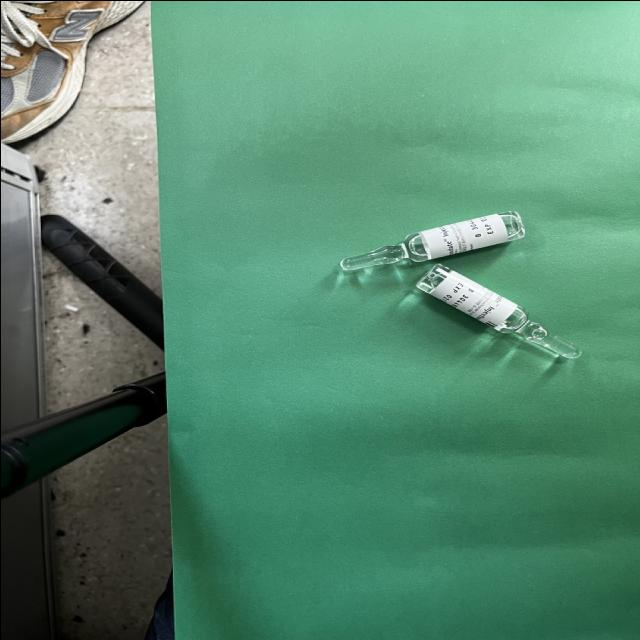Ampoules: (415, 263, 583, 359), (340, 210, 525, 270)
